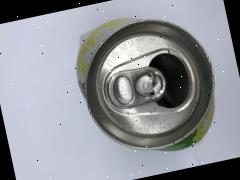metal: (25, 0, 240, 180)
